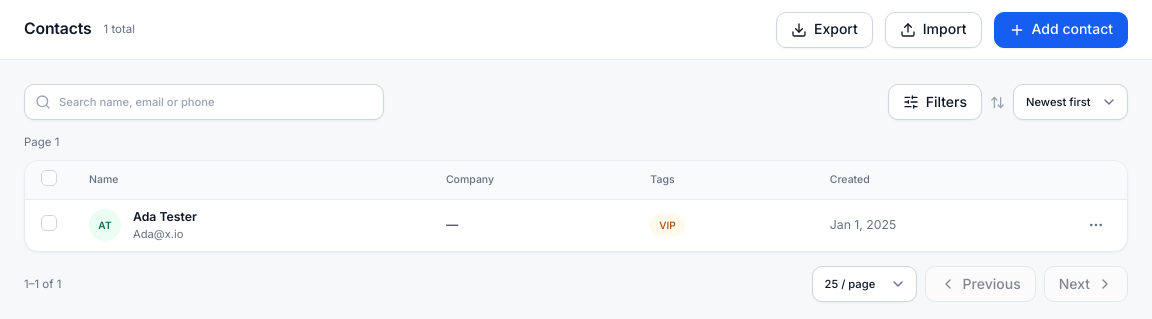
Test case: ContactsView states › warns about a 1-character search and does not send it to the API
Type "a" into the search field with placeholder "Search name, email or phone" at (204, 102), box [24, 84, 384, 120]
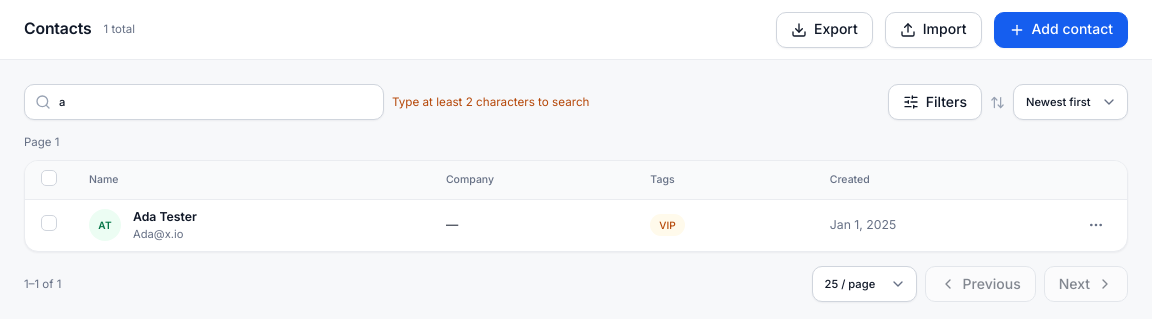
Check: the text "at least 2 characters" is shown, box [392, 94, 589, 108]
